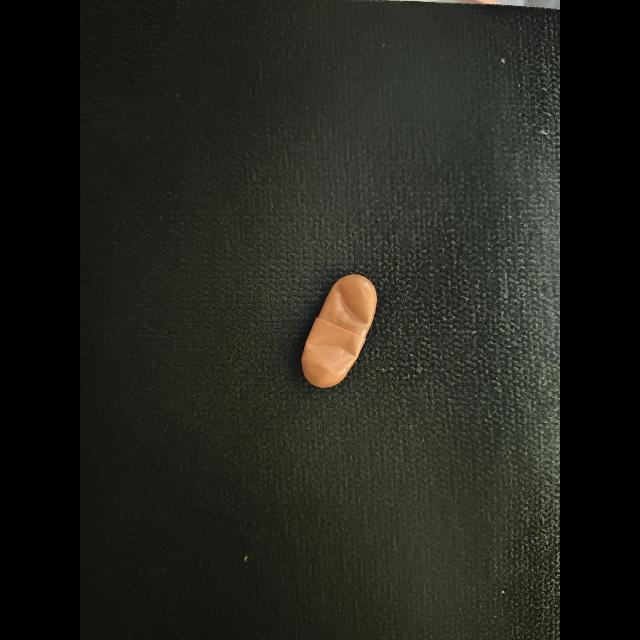Defective Capsule: (305, 332, 357, 375), (334, 281, 370, 326)
